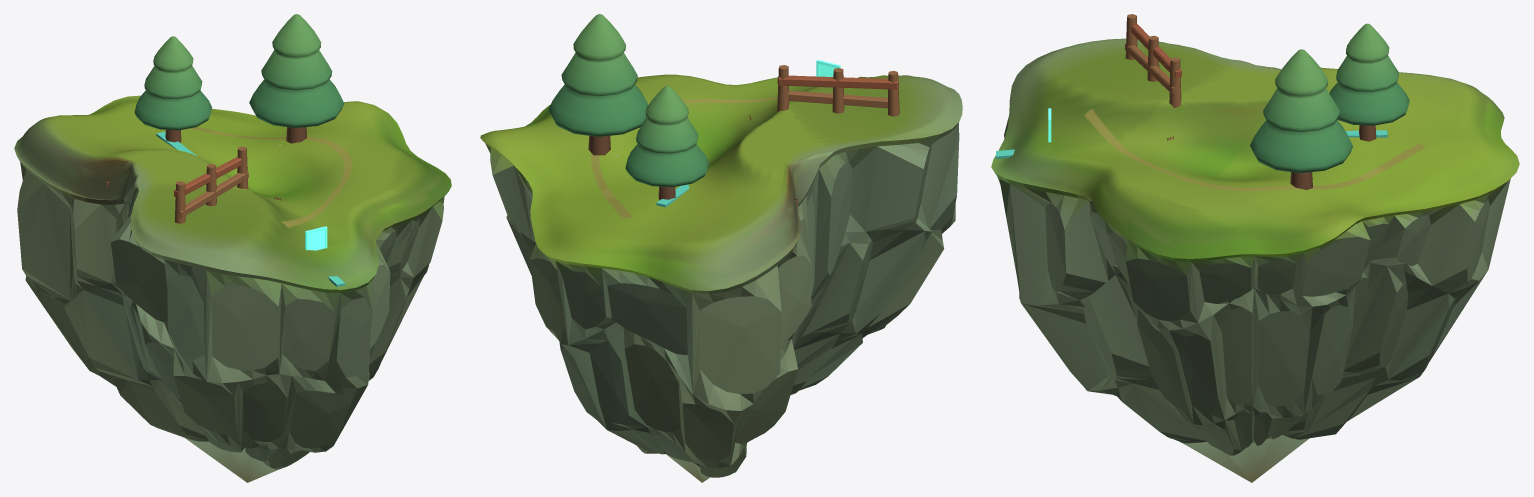
The model's file is uni.glb.
3 renders of one model, left to right at view 1: azimuth 30°, elevation 25°; view 2: azimuth 150°, elevation 25°; view 3: azimuth 270°, elevation 25°, orthographic. The views are drawn at different scales.
Visible parts, largest first — view 1: ground, remote_props; view 2: ground, remote_props; view 3: ground, remote_props.
Part boxes in pixels (<box>): ground: <box>14,95,451,482</box>; remote_props: <box>106,14,344,223</box>; ground: <box>480,74,962,482</box>; remote_props: <box>548,14,899,206</box>; ground: <box>991,38,1519,482</box>; remote_props: <box>1125,14,1409,189</box>.
Size of the model in its own units: 28.34 by 34.05 by 34.55.
